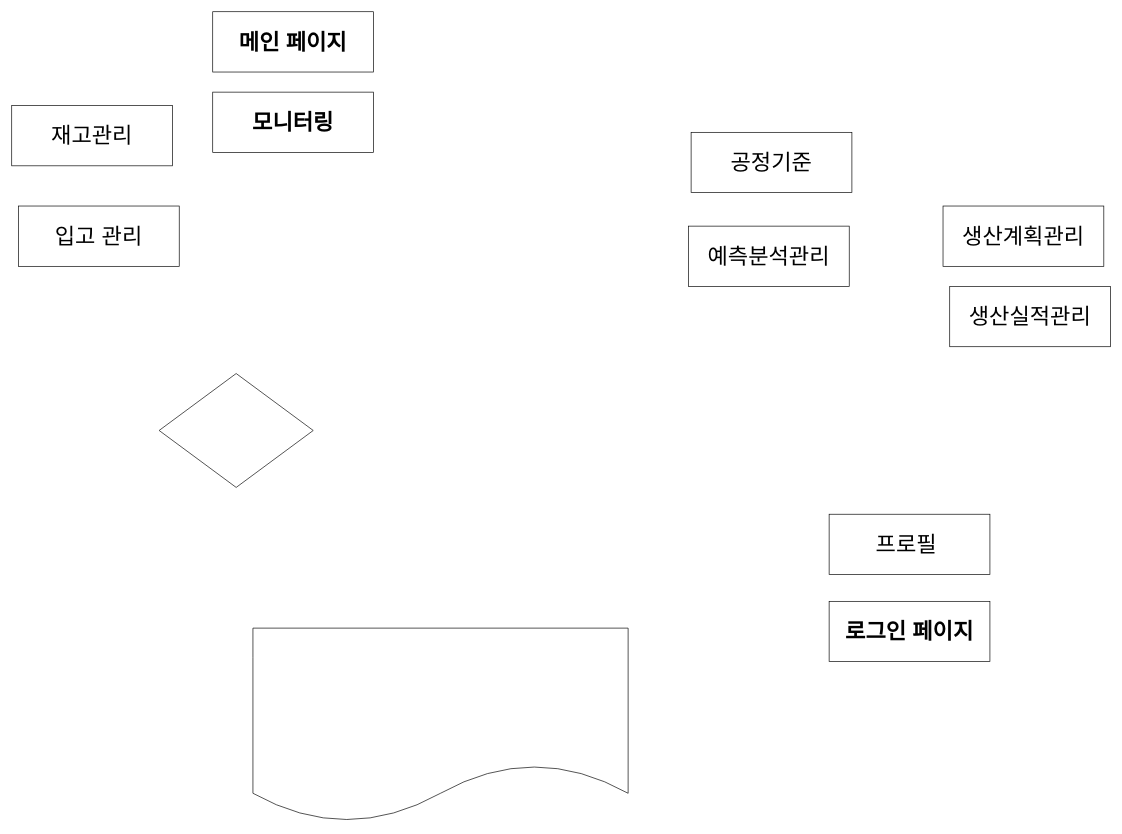
Image size: 1122x834. Some labels were removed from this diagram. Each missing label, with the centre of its shape:
"구민 : 메인 , 모니터링 민영 : 프로필 , 로그인 , 모니터링 은별 : 재고 , 입고 의건 : 공정, 예측 지훈 : 생산계획, 생산실적" belongs at point (440, 724).
"아이디 분류/유무" belongs at point (235, 430).
